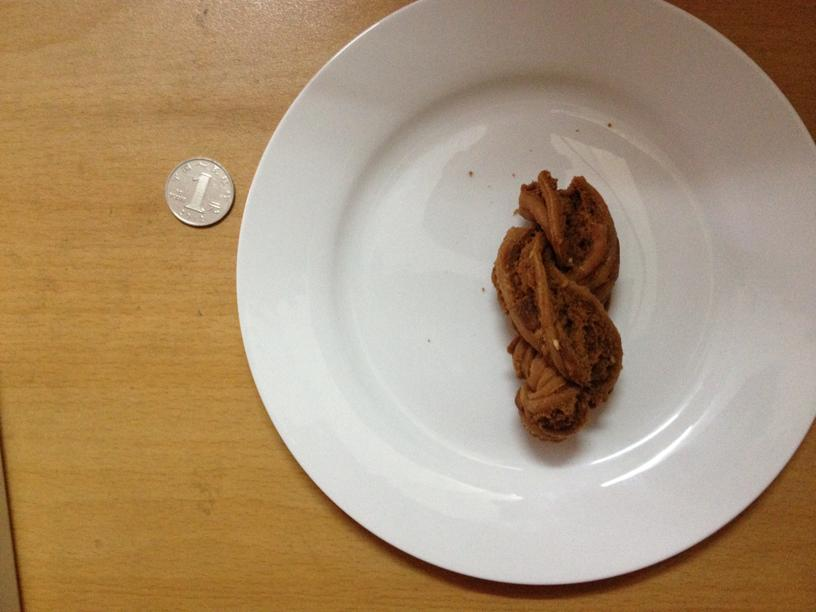coin: (162, 156, 235, 227)
fired_dough_twist: (487, 174, 624, 440)
